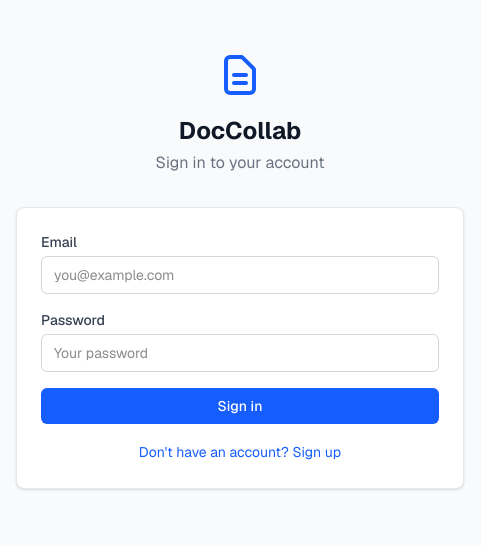
Login Page › shows register form when toggled
Click the button "Don't have an account? Sign up": (240, 452) [139,442,341,462]
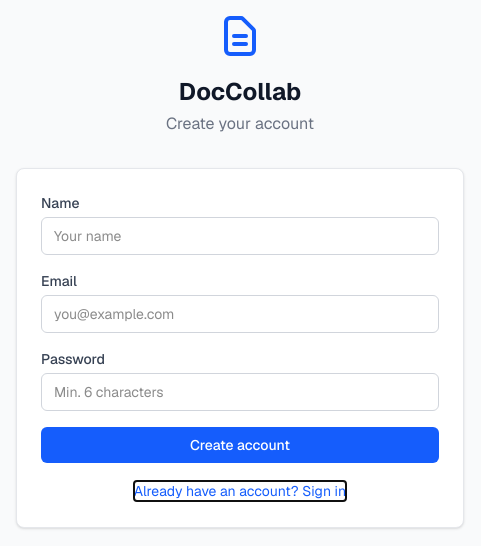
Expected: the field labelled "Name" is shown, [41,217,439,255]
Expected: the button "Create account" is shown, [41,427,439,463]
